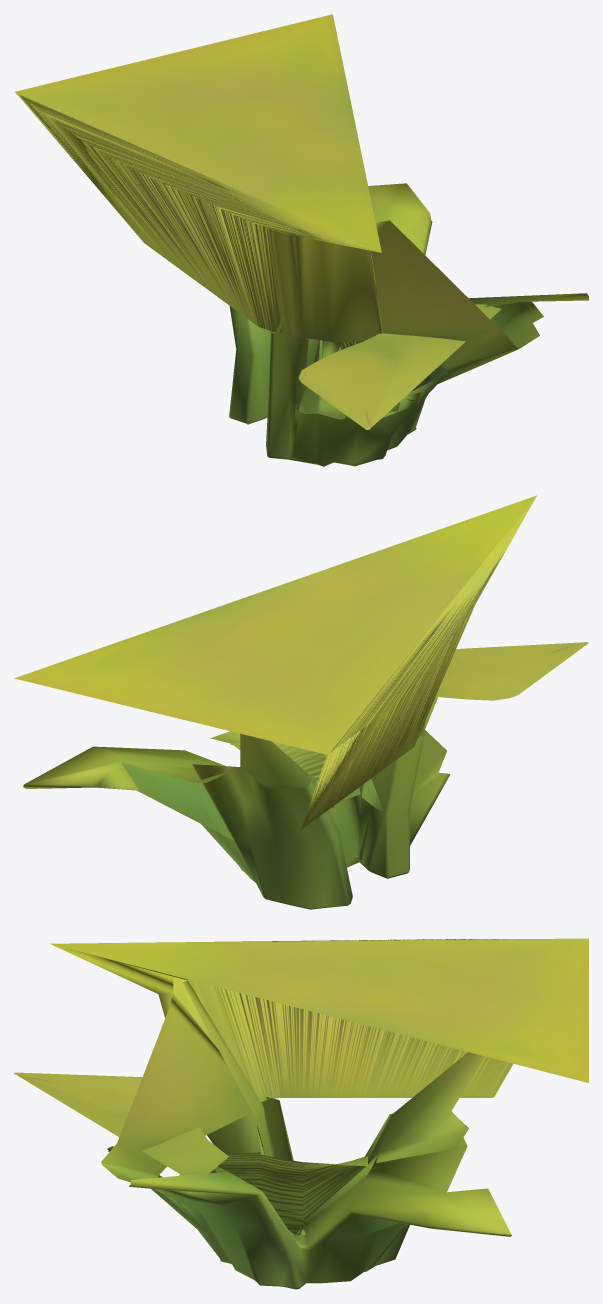
The model's file is tripo_raw_smart_failed.glb.
3 views of the same model, one above another, from view 1: azimuth 30°, elevation 25°; view 2: azimuth 150°, elevation 25°; view 3: azimuth 270°, elevation 25° (orthographic). The views are drawn at different scales.
Parts seen in each view (by area): view 1: tripo_node_0ef054bd-e7b7-412a-9c6f-faf94b8e3672; view 2: tripo_node_0ef054bd-e7b7-412a-9c6f-faf94b8e3672; view 3: tripo_node_0ef054bd-e7b7-412a-9c6f-faf94b8e3672.
Boxes of the visible parts, x1,y1,x2,y2 form: tripo_node_0ef054bd-e7b7-412a-9c6f-faf94b8e3672: (14,14,588,466); tripo_node_0ef054bd-e7b7-412a-9c6f-faf94b8e3672: (14,495,588,909); tripo_node_0ef054bd-e7b7-412a-9c6f-faf94b8e3672: (14,938,588,1289).
Size of the model in its own units: 0.6438 by 0.5186 by 0.9824.
Materials: 1 (1 with a texture image).
